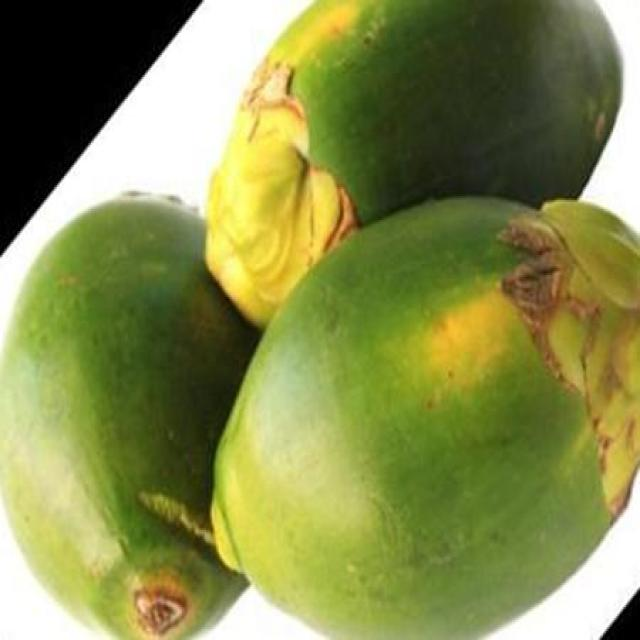good: (209, 196, 639, 638), (226, 0, 624, 310), (0, 194, 262, 638)
